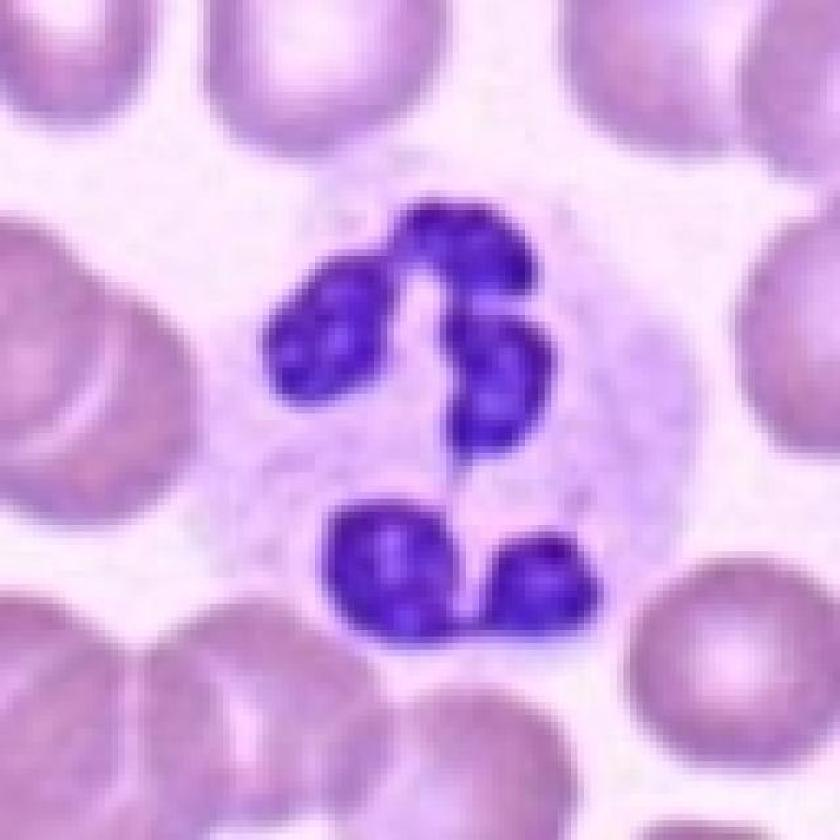neutrophil: (192, 186, 701, 694)
